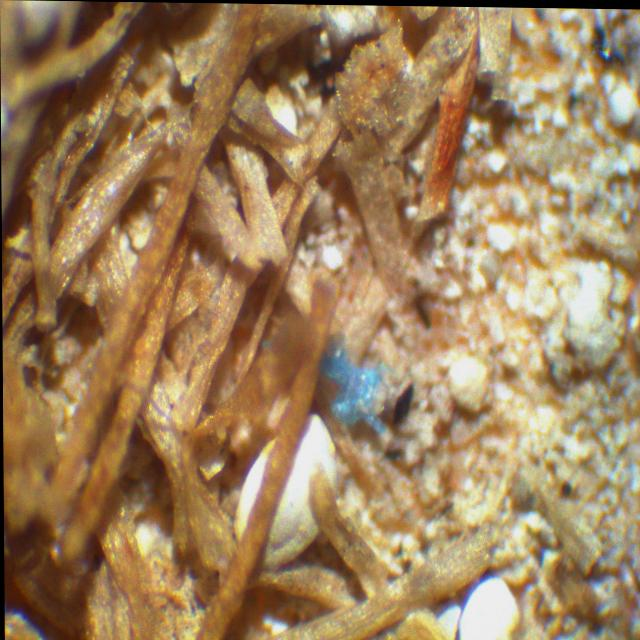microplastic: (321, 342, 388, 436)
